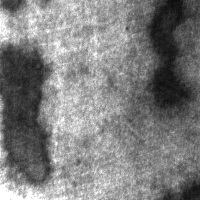patches: (1, 42, 52, 184), (146, 1, 190, 59), (148, 61, 190, 109), (169, 179, 200, 199), (1, 1, 28, 16)
